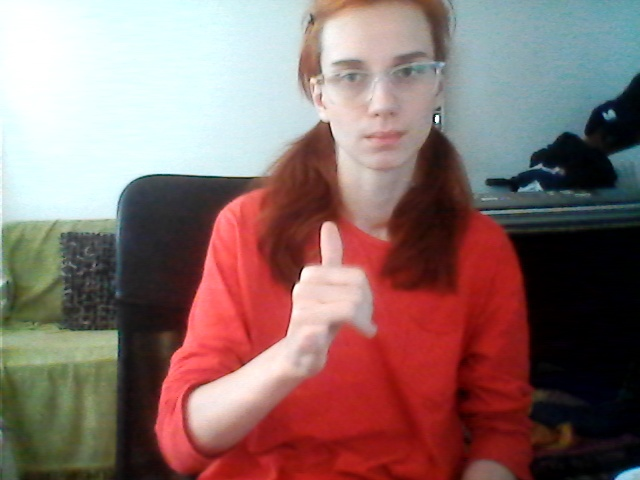ano: (275, 217, 396, 383)
